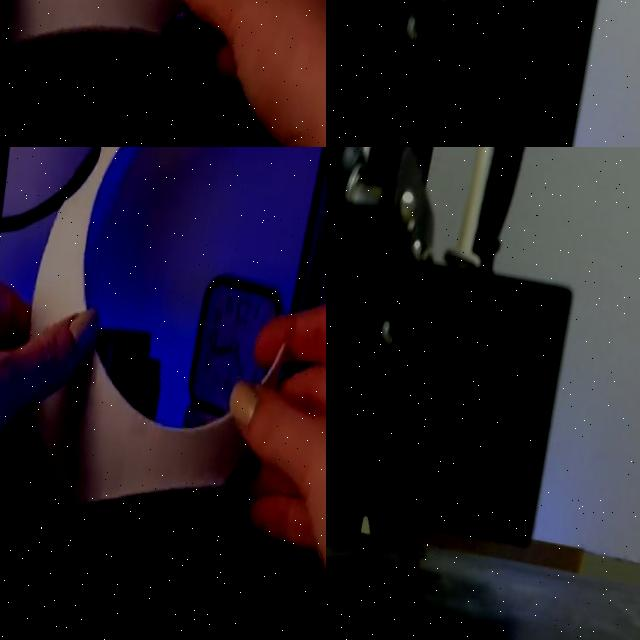spaghetti: (326, 522, 423, 587)
